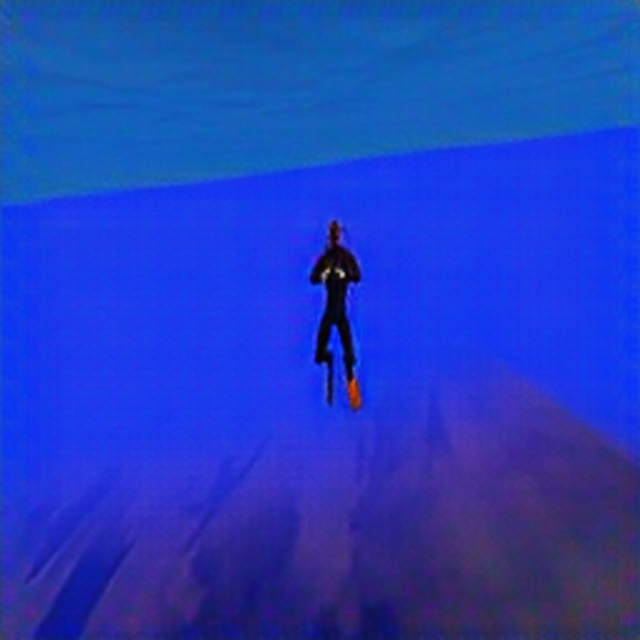diver: (308, 219, 362, 378)
